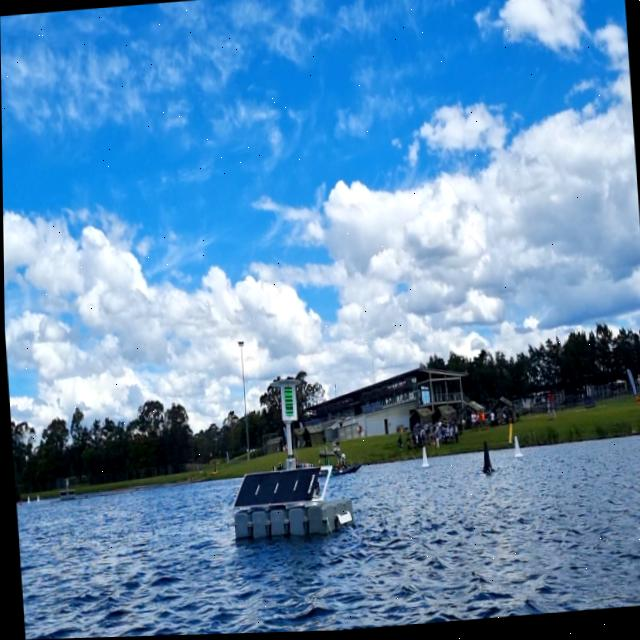led: (280, 386, 294, 421)
